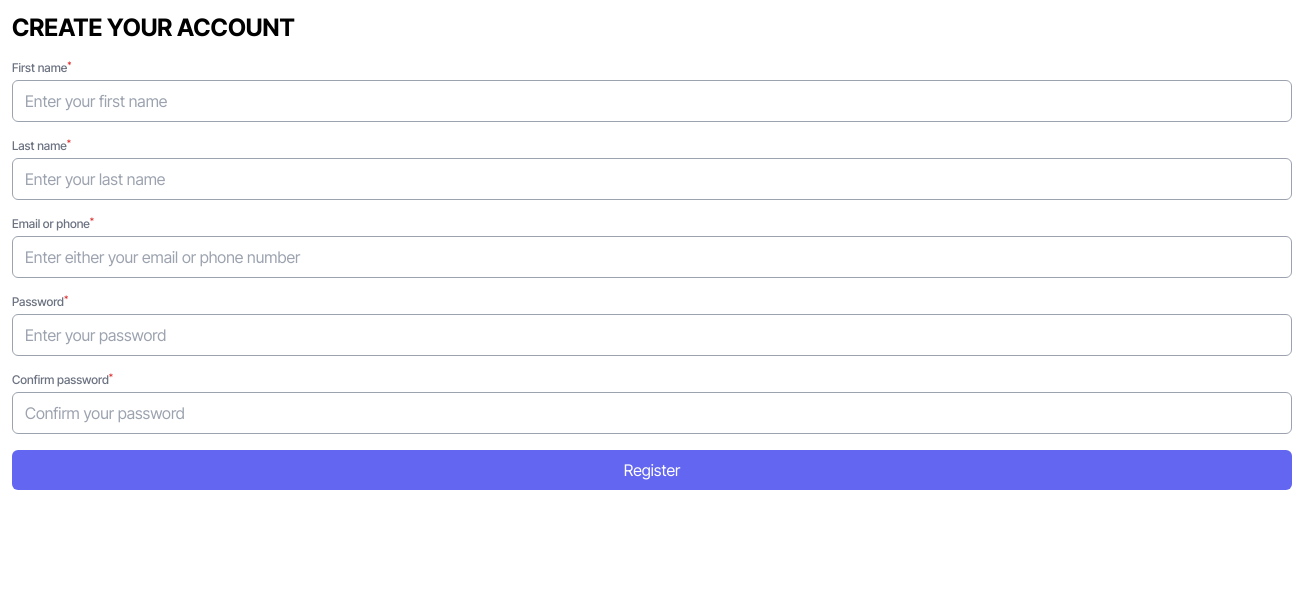
Test: RegisterForm › should display error message when email or phone is invalid
Type "invalid-email" into the field with test id "email-or-phone-input".
click(652, 257); type("invalid-email")  # box [12,236,1292,278]
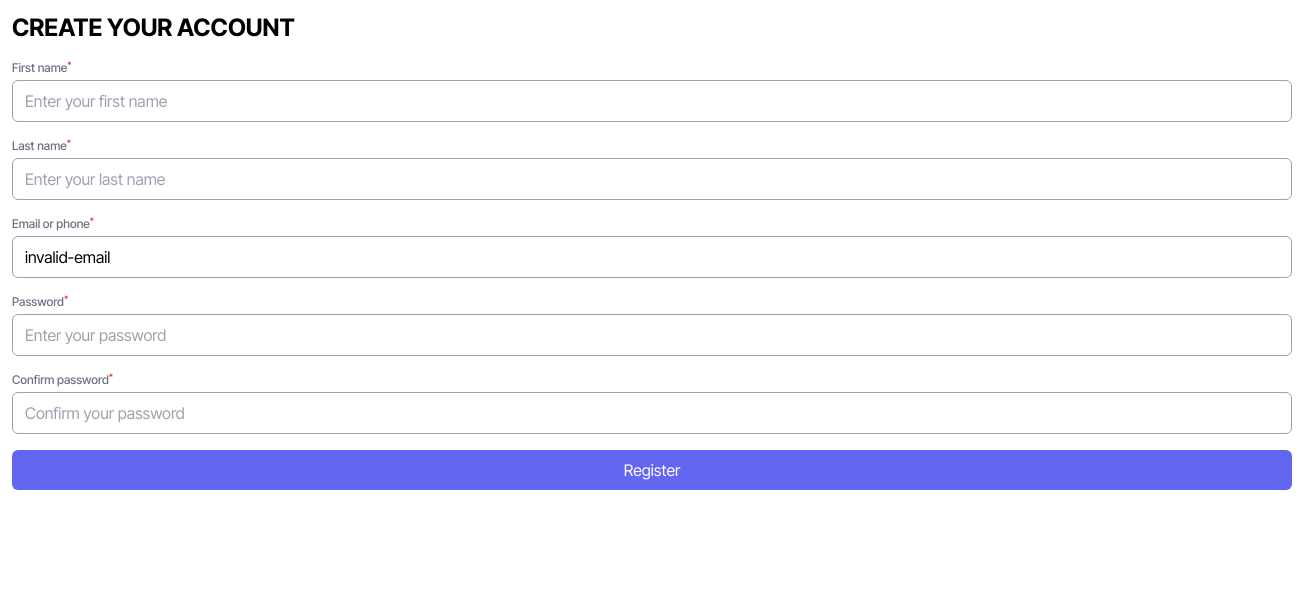
Click the button with test id "submit-button".
click(652, 470)  # box [12,450,1292,490]
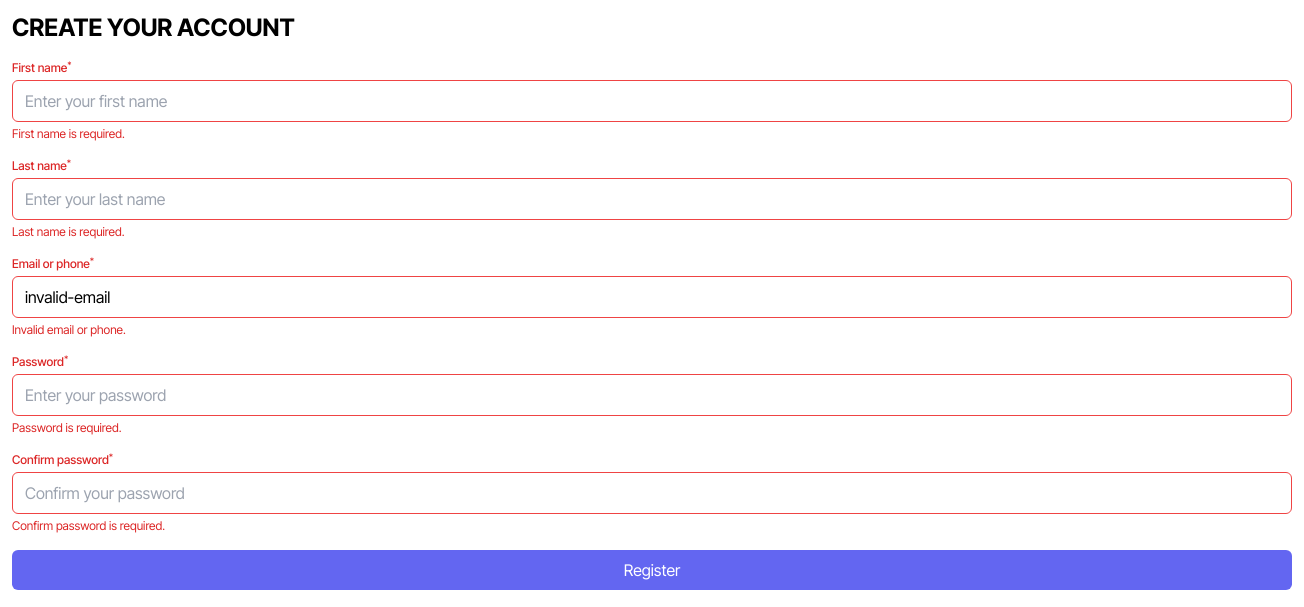
Now the text "Invalid email or phone." is shown, box [12,322,126,337]
